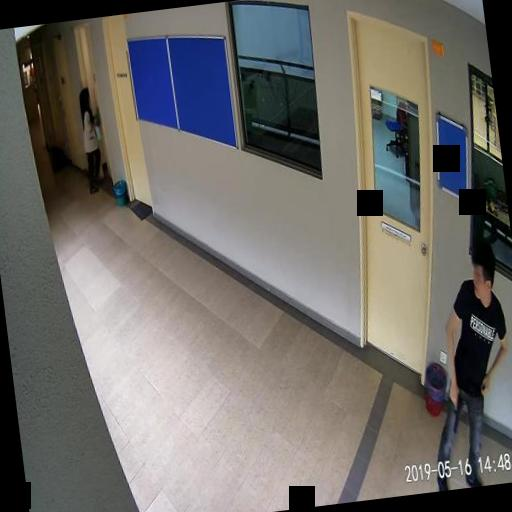Handgun: (448, 387, 464, 431)
